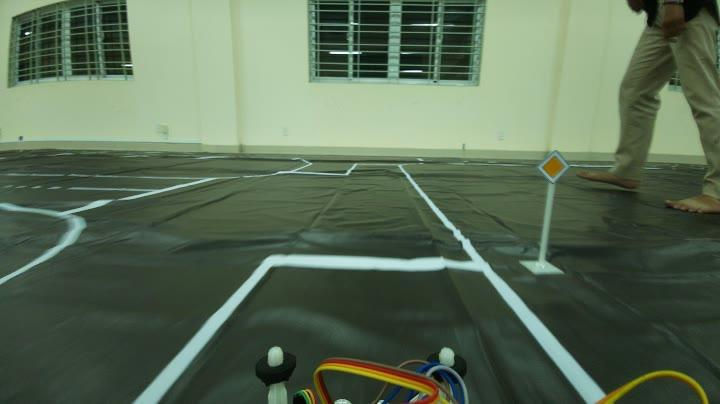priority: (534, 150, 570, 180)
